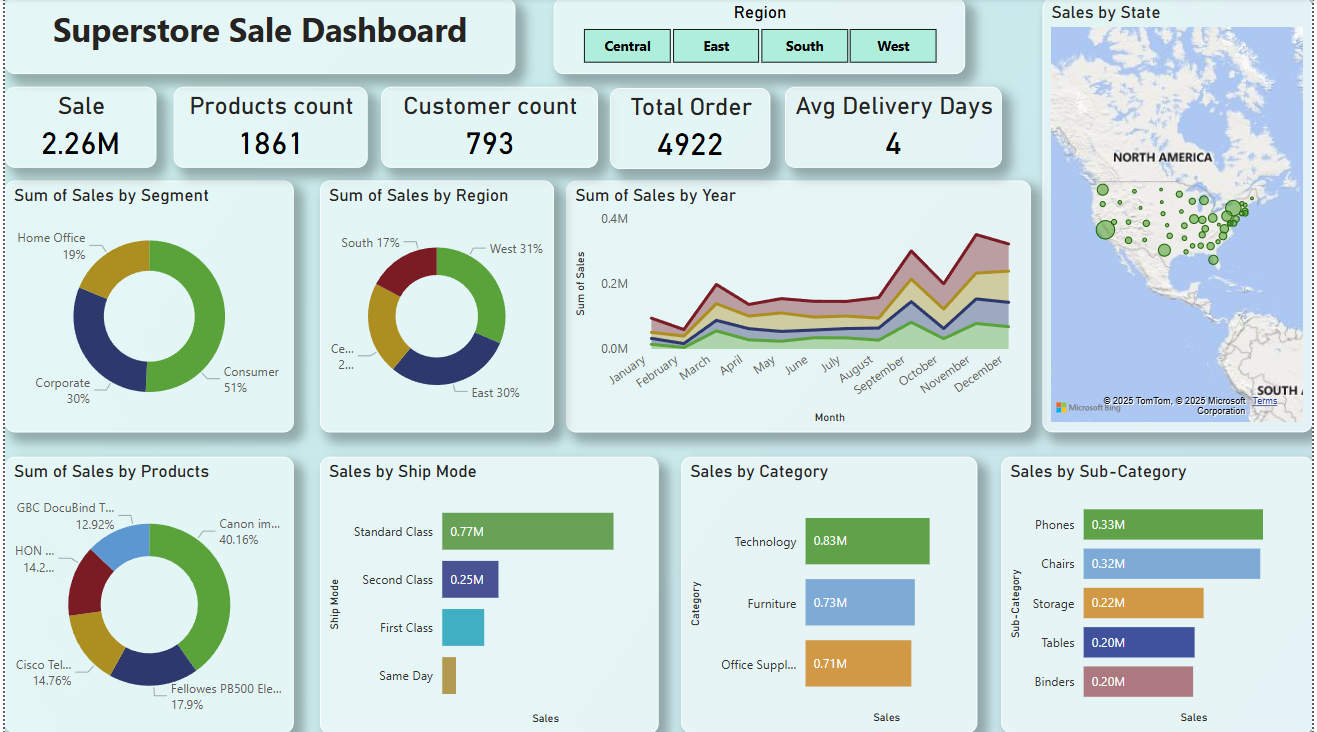

What the dashboard file says about the page in this screenshot:
{"tool":"powerbi","page":{"name":"Superstore Sale Dashboard","canvas":[1280,720],"ordinal":0},"visuals":[{"type":"clusteredBarChart","fields":{"Category":["Superstore_Sales.Category"],"Y":["Sum(Superstore_Sales.Sales)"]},"box":[661.6,448.8,289.8,270.2],"z":0},{"type":"clusteredBarChart","fields":{"Category":["Superstore_Sales.Sub-Category"],"Y":["Sum(Superstore_Sales.Sales)"]},"box":[974.6,448.8,305.7,270.2],"z":1000},{"type":"clusteredBarChart","fields":{"Category":["Superstore_Sales.Ship Mode"],"Y":["Sum(Superstore_Sales.Sales)"]},"box":[308.2,448.8,331.4,271.5],"z":2000},{"type":"stackedAreaChart","title":"Sum of Sales by Year","fields":{"Category":["Superstore_Sales.Order Date.Variation.Date Hierarchy.Month"],"Y":["Sum(Superstore_Sales.Sales)"],"Series":["Superstore_Sales.Order Date.Variation.Date Hierarchy.Year"]},"box":[548.9,178,454.7,246.8],"z":3000},{"type":"map","title":"Sales by State","fields":{"Category":["Superstore_Sales.State"],"Size":["Sum(Superstore_Sales.Sales)"]},"box":[1014.8,0,264.2,424.7],"z":4000},{"type":"donutChart","fields":{"Category":["Superstore_Sales.Segment"],"Y":["Sum(Superstore_Sales.Sales)"]},"box":[0,178,282.7,246.8],"z":5000},{"type":"slicer","title":"Region","fields":{"Values":["Superstore_Sales.Region"]},"box":[536.9,0,402.3,74.8],"z":6000},{"type":"textbox","box":[0,0,499.6,74.8],"z":7000},{"type":"card","title":"Sale","fields":{"Values":["Sum(Superstore_Sales.Sales)"]},"box":[0,86.7,148.1,79.3],"z":8000},{"type":"card","title":"Products count","fields":{"Values":["Count(Superstore_Sales.Product ID)"]},"box":[164.5,86.7,190,79.3],"z":9000},{"type":"card","title":"Customer count","fields":{"Values":["Count(Superstore_Sales.Customer ID)"]},"box":[367.9,86.7,212.4,79.3],"z":10000},{"type":"card","title":"Total Order","fields":{"Values":["Count(Superstore_Sales.Order ID)"]},"box":[592.3,88.2,157,79.3],"z":11000},{"type":"donutChart","title":"Sum of Sales by Products","fields":{"Category":["Superstore_Sales.Product Name"],"Y":["Sum(Superstore_Sales.Sales)"]},"box":[0,448.7,282.7,270.7],"z":12000},{"type":"card","title":"Avg Delivery Days","fields":{"Values":["Avg(Superstore_Sales.Avg Delivery)"]},"box":[762.8,86.7,212.4,79.3],"z":13000},{"type":"donutChart","fields":{"Category":["Superstore_Sales.Region"],"Y":["Sum(Superstore_Sales.Sales)"]},"box":[308.1,178,228.8,246.8],"z":14000}]}

Visuals, with their boxes in screenshot pixels (x1, y1, x2, y2), scaled from the page's 1280x720 canvas onto the 1317x732 screenshot:
clusteredBarChart - Superstore_Sales.Category x Sum(Superstore_Sales.Sales): box=[681, 456, 979, 731]
clusteredBarChart - Superstore_Sales.Sub-Category x Sum(Superstore_Sales.Sales): box=[1003, 456, 1316, 731]
clusteredBarChart - Superstore_Sales.Ship Mode x Sum(Superstore_Sales.Sales): box=[317, 456, 658, 731]
"Sum of Sales by Year" stackedAreaChart: box=[565, 181, 1033, 432]
"Sales by State" map: box=[1044, 0, 1316, 432]
donutChart - Superstore_Sales.Segment x Sum(Superstore_Sales.Sales): box=[0, 181, 291, 432]
"Region" slicer: box=[552, 0, 966, 76]
textbox: box=[0, 0, 514, 76]
"Sale" card: box=[0, 88, 152, 169]
"Products count" card: box=[169, 88, 365, 169]
"Customer count" card: box=[379, 88, 597, 169]
"Total Order" card: box=[609, 90, 771, 170]
"Sum of Sales by Products" donutChart: box=[0, 456, 291, 731]
"Avg Delivery Days" card: box=[785, 88, 1003, 169]
donutChart - Superstore_Sales.Region x Sum(Superstore_Sales.Sales): box=[317, 181, 552, 432]
